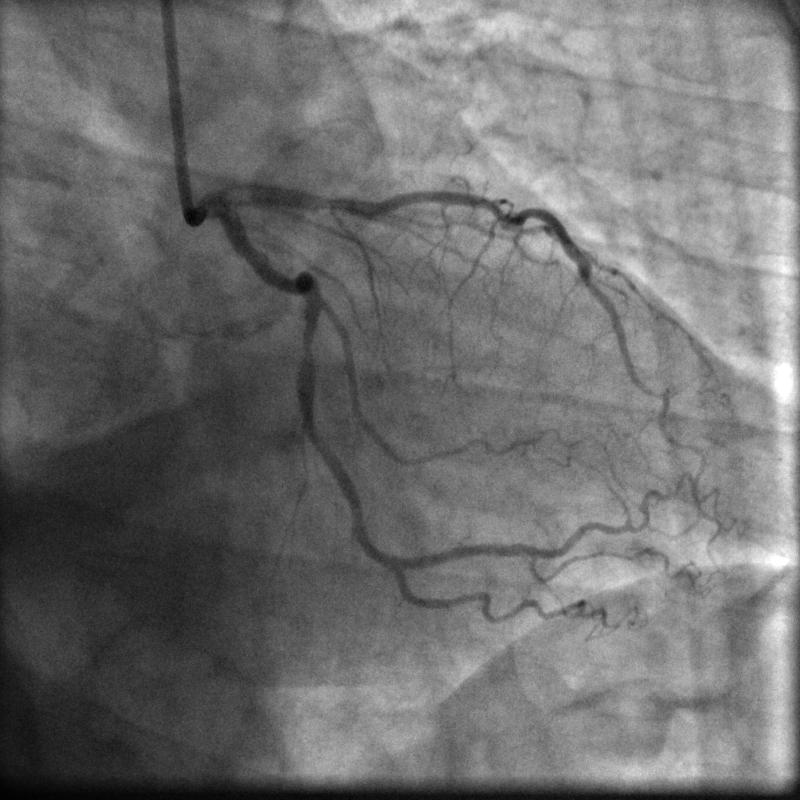Stenosis: (302, 329, 314, 357)
